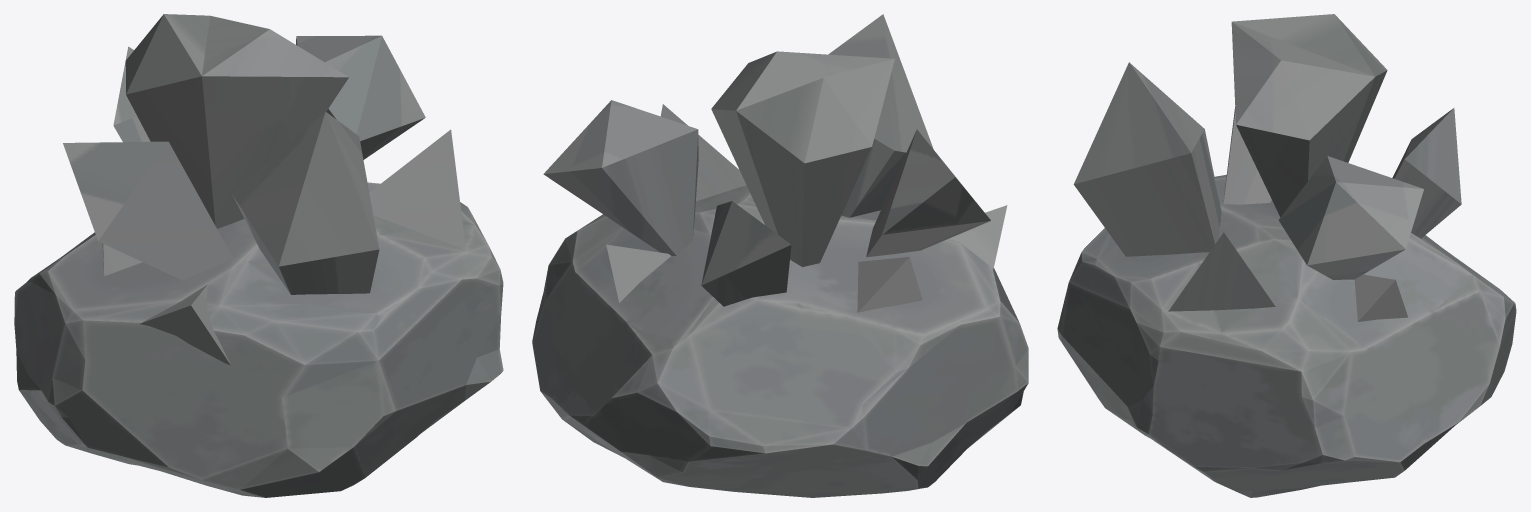
Rendered from coalrockupdate.fbx.
3 views of the same model, side by side, from view 1: azimuth 30°, elevation 25°; view 2: azimuth 150°, elevation 25°; view 3: azimuth 270°, elevation 25° (orthographic). The views are drawn at different scales.
Parts seen in each view (by area): view 1: rock3, Cone.001, Cone.002, Cone.007, Cone.009, Cone.010, Cone.003, Cone.005, Cone.004; view 2: rock3, Cone.001, Cone.009, Cone.007, Cone.002, Cone.005, Cone.004, Cone.010, Cone.008, Cone.003; view 3: rock3, Cone.001, Cone.002, Cone.009, Cone.005, Cone.010, Cone.007, Cone.008.
Boxes of the visible parts, x1,y1,x2,y2 form: rock3: (14, 182, 503, 497); Cone.001: (125, 14, 348, 228); Cone.002: (231, 111, 379, 294); Cone.007: (63, 141, 233, 280); Cone.009: (296, 35, 425, 159); Cone.010: (369, 129, 465, 248); Cone.003: (140, 285, 230, 365); Cone.005: (113, 46, 150, 142); Cone.004: (102, 243, 142, 276); rock3: (532, 185, 1028, 497); Cone.001: (711, 51, 894, 266); Cone.009: (543, 100, 698, 255); Cone.007: (866, 129, 990, 257); Cone.002: (828, 14, 933, 217); Cone.005: (701, 201, 791, 306); Cone.004: (857, 257, 922, 312); Cone.010: (660, 104, 746, 201); Cone.008: (606, 244, 670, 302); Cone.003: (948, 205, 1007, 269); rock3: (1057, 175, 1516, 497); Cone.001: (1231, 14, 1387, 217); Cone.002: (1073, 62, 1221, 256); Cone.009: (1278, 156, 1423, 279); Cone.005: (1392, 108, 1461, 238); Cone.010: (1168, 232, 1275, 311); Cone.007: (1223, 106, 1271, 204); Cone.008: (1354, 274, 1408, 321).
Size of the model in its own units: 166 by 150 by 154.
